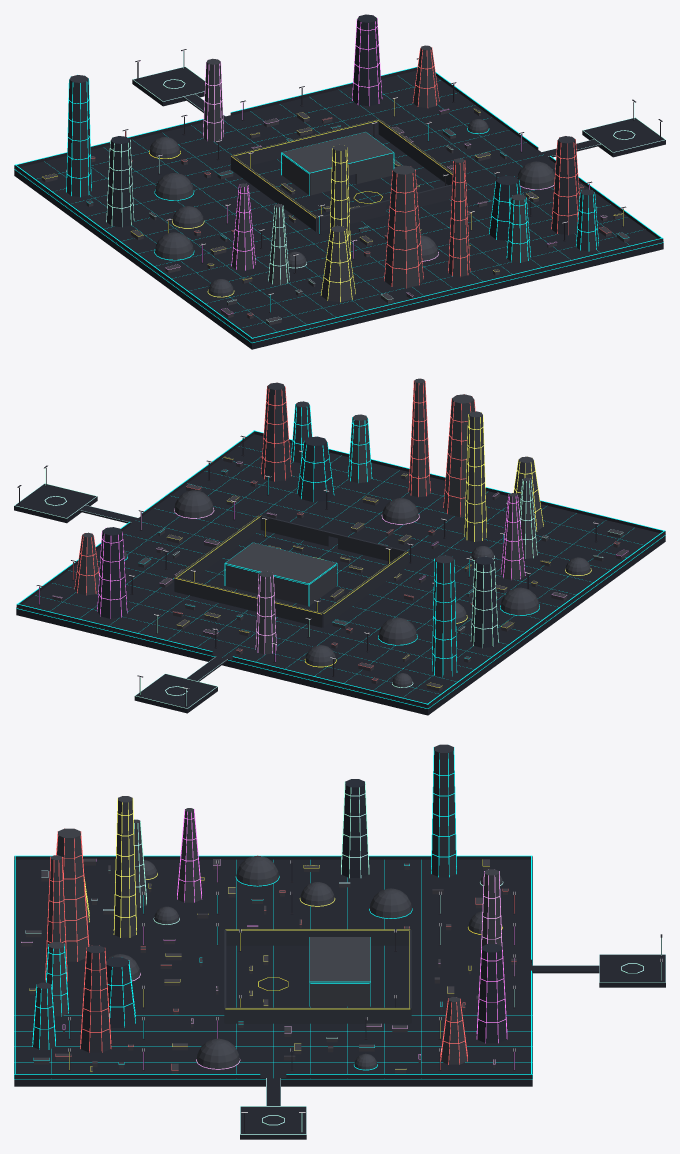
The model's file is heist_aurum.glb.
3 views of the same model, one above another, from view 1: azimuth 30°, elevation 25°; view 2: azimuth 150°, elevation 25°; view 3: azimuth 270°, elevation 25° (orthographic). The views are drawn at different scales.
Parts seen in each view (by area): view 1: Ground, Structures, Trim, Cover; view 2: Ground, Structures, Trim, Cover; view 3: Ground, Structures, Trim, Cover.
Boxes of the visible parts, x1,y1,x2,y2 form: Ground: (14, 67, 665, 349); Structures: (14, 14, 663, 341); Trim: (14, 16, 665, 342); Cover: (42, 84, 629, 325); Ground: (14, 434, 665, 715); Structures: (16, 378, 665, 707); Trim: (14, 380, 665, 708); Cover: (52, 456, 628, 691); Ground: (14, 859, 665, 1139); Structures: (14, 744, 662, 1133); Trim: (14, 747, 665, 1134); Cover: (21, 858, 516, 1073).
Size of the model in its own units: 176 by 42.42 by 176.
